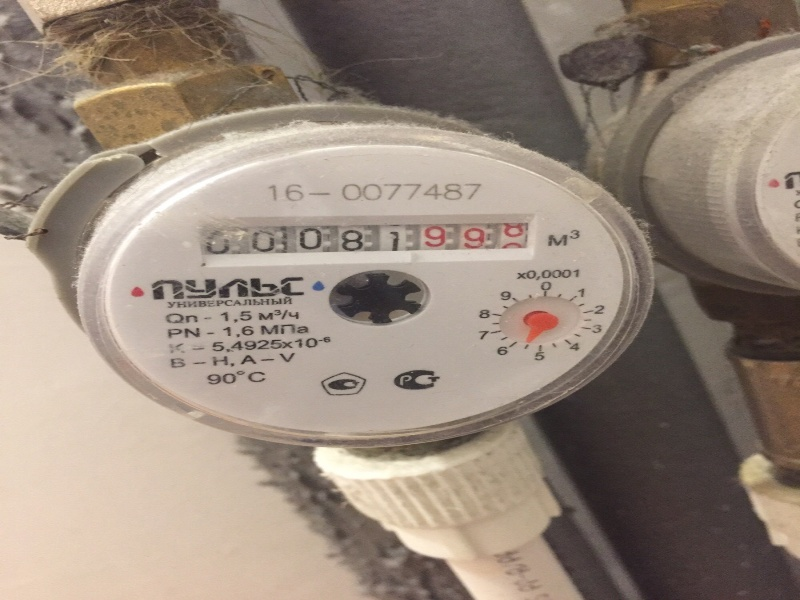meter: (189, 214, 534, 263)
